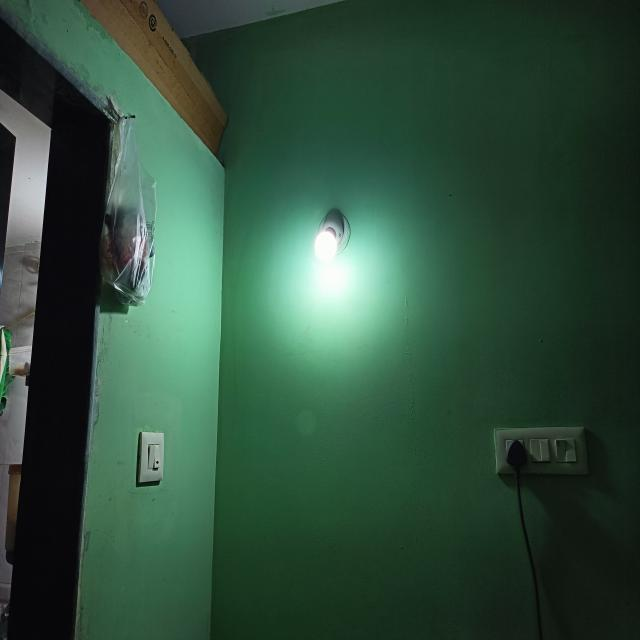bulb_on: (313, 228, 339, 264)
